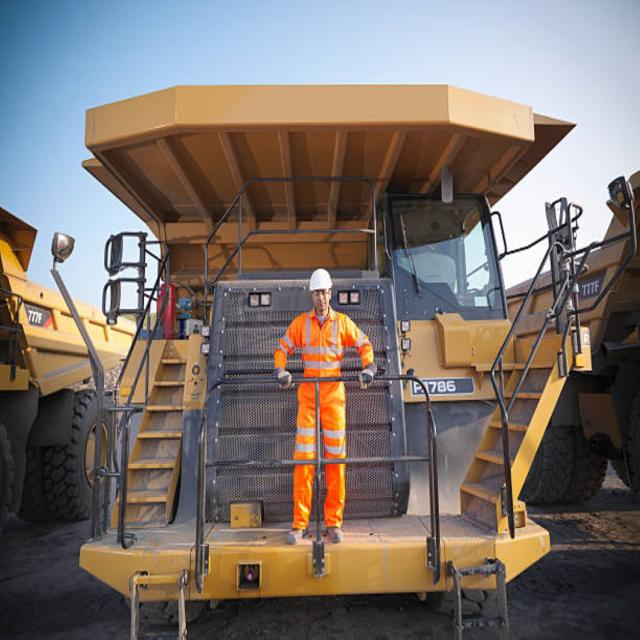dump_truck: (60, 61, 587, 621)
